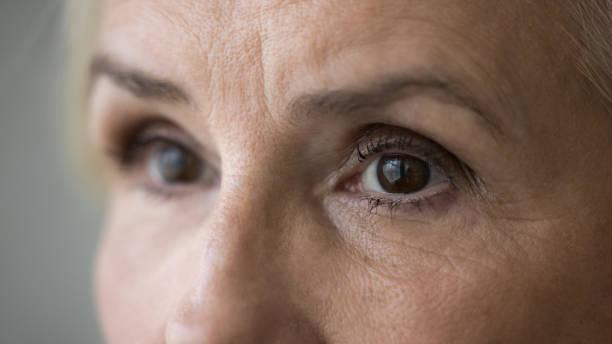Dry-Skin: (179, 23, 319, 203), (395, 24, 465, 257), (186, 274, 449, 320), (295, 221, 577, 254), (353, 24, 427, 124), (158, 221, 397, 242), (345, 275, 466, 315)
